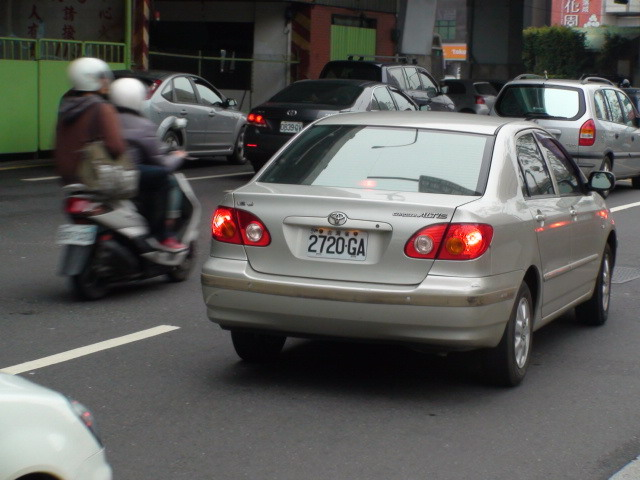plate: (305, 226, 369, 265), (278, 120, 306, 137)
